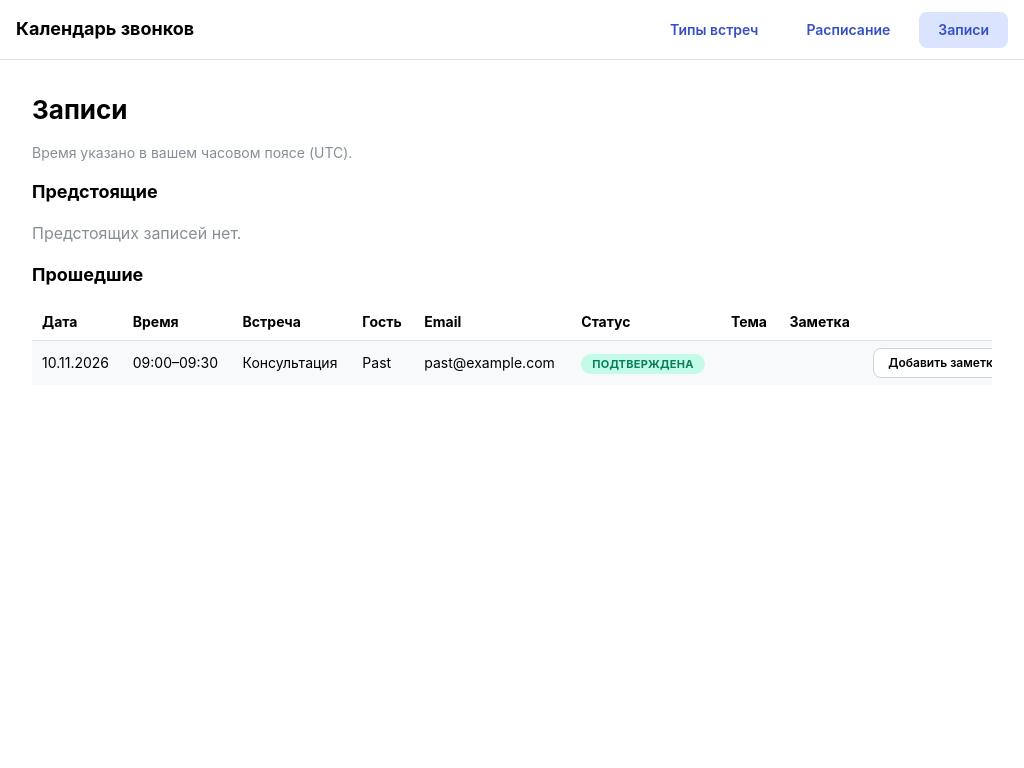
BookingsPage › adds a note to a past booking
Check: the heading "Прошедшие" is shown, box [32,264,143,285]
Click the button with aria-label "Добавить заметку: Past, 10.11.2026 09:00": (944, 363) [873,348,1015,378]
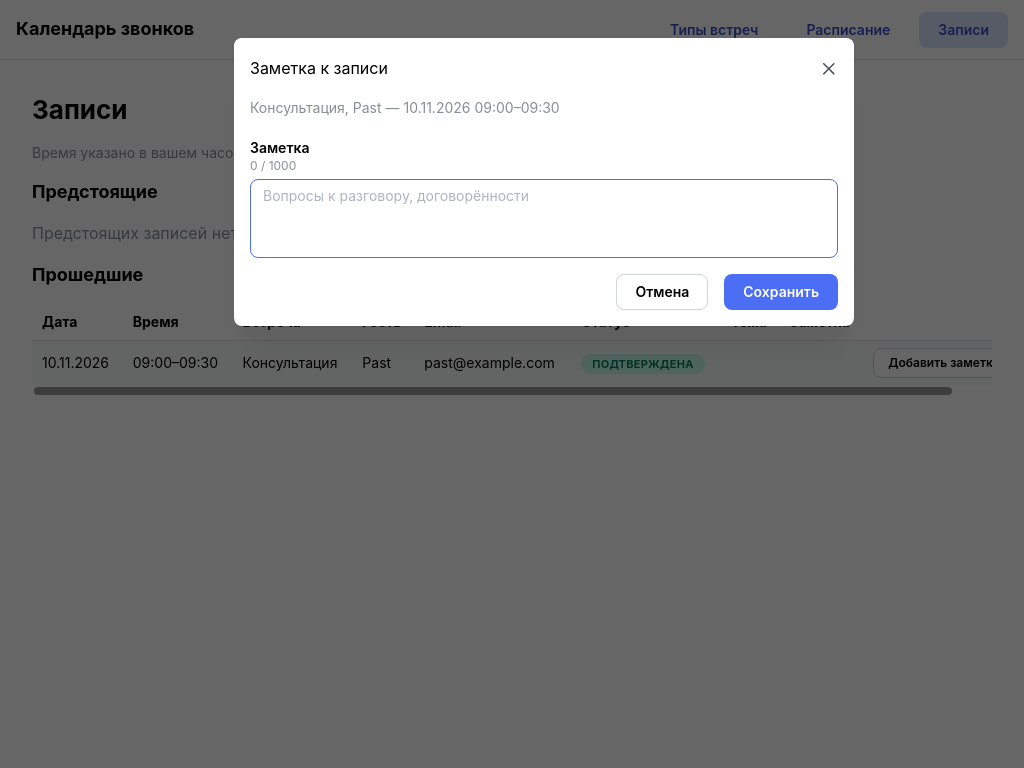
In the text box labelled "Заметка": (544, 218) [250,179,838,258], type "Итоги встречи"
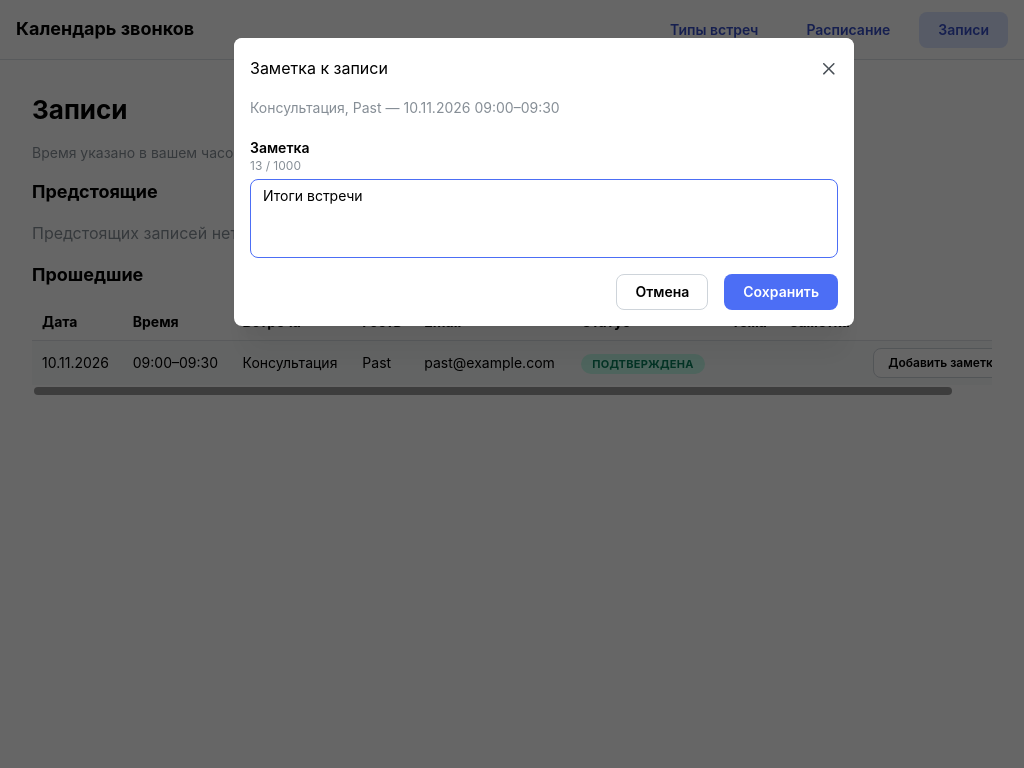
Click the button "Сохранить": (781, 292) [724,274,838,310]
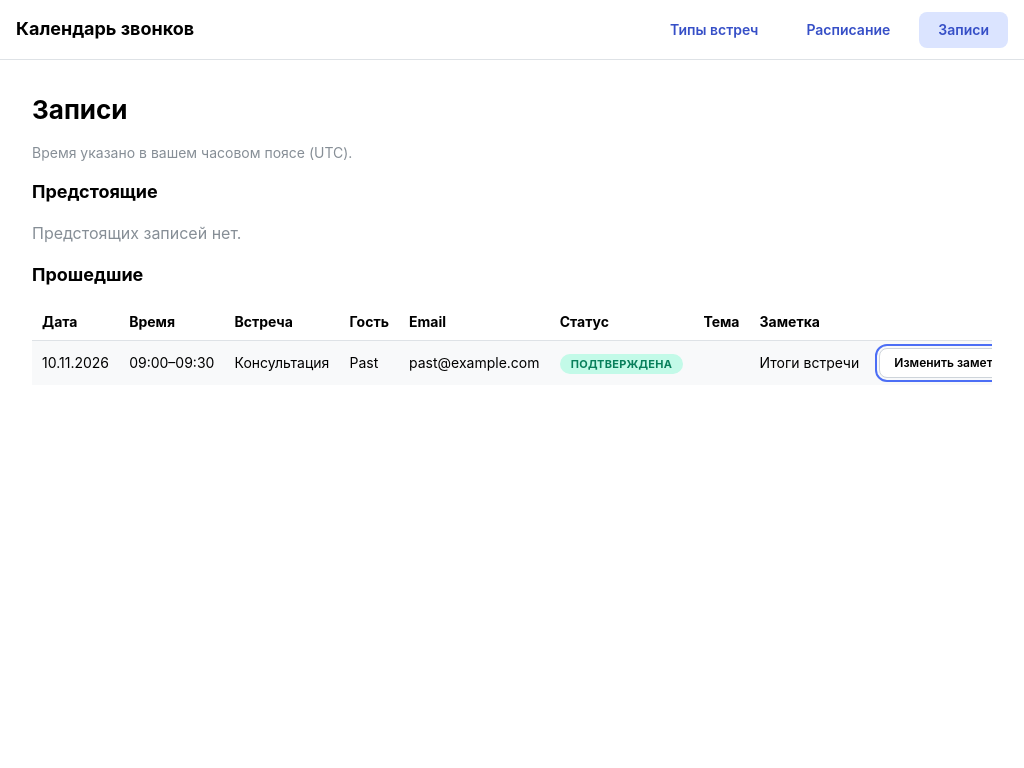
Check: the cell "Итоги встречи" is shown, box [750,341,869,385]
